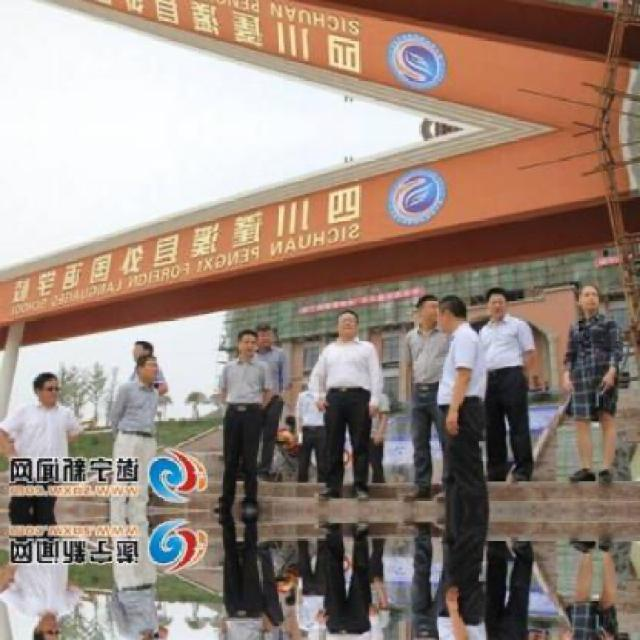sin casco: (305, 299, 391, 357), (386, 268, 453, 337), (208, 310, 286, 364), (564, 266, 620, 338), (108, 337, 166, 400), (0, 362, 76, 408), (478, 282, 536, 334), (445, 287, 493, 341)
